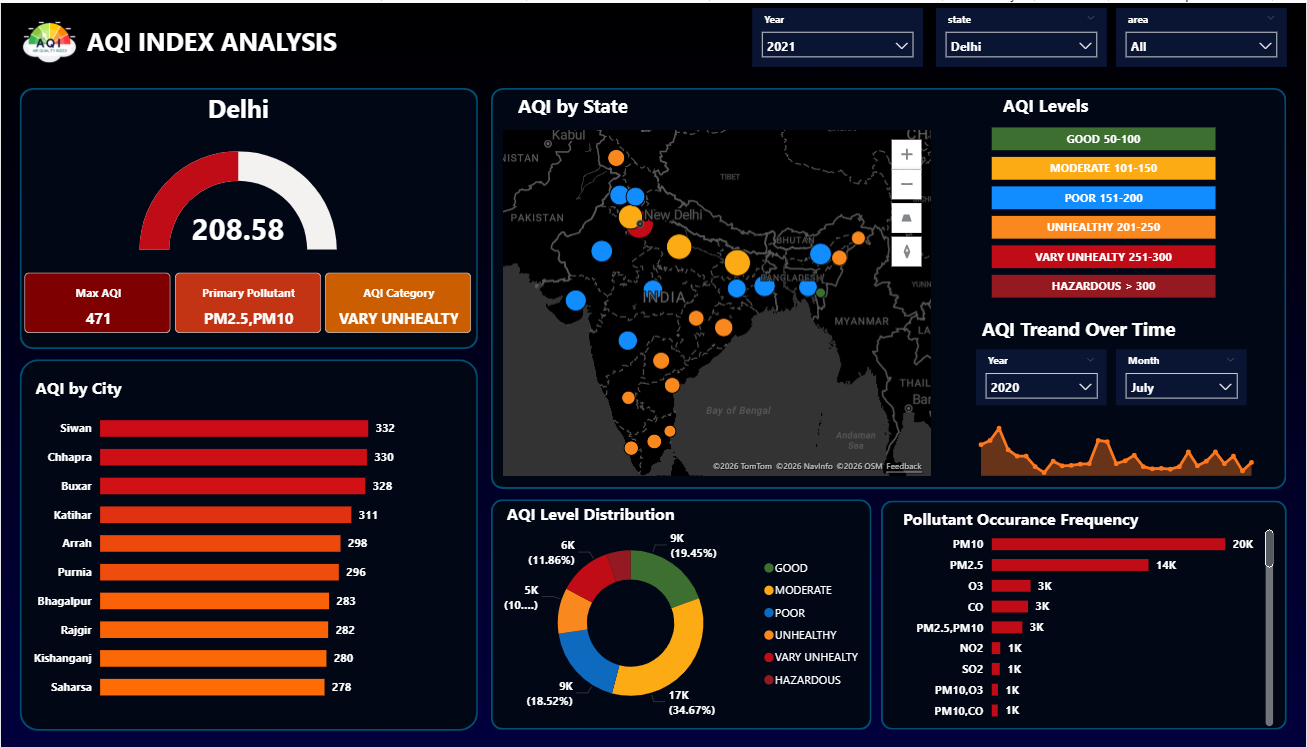

Layout of this report page (visuals, bound fields, positions):
{"tool":"powerbi","page":{"name":"INDEX AQI ANALYSIS","canvas":[1400,800],"ordinal":0},"visuals":[{"type":"textbox","box":[87.1,17.1,288.6,62.9],"z":0},{"type":"image","box":[0,14.3,104.3,54.3],"z":1000},{"type":"shape","box":[20,91.4,491.4,280],"z":2000},{"type":"gauge","fields":{"Y":["day_wise_aqi_data.Avg AQI"]},"box":[104.3,154.3,300,115.7],"z":3000},{"type":"slicer","fields":{"Values":["calender table.Year"]},"box":[806,6,183.1,63],"z":4000},{"type":"slicer","fields":{"Values":["day_wise_aqi_data.state"]},"box":[1002.6,6,183.1,63],"z":5000},{"type":"slicer","fields":{"Values":["day_wise_aqi_data.area"]},"box":[1196.2,6,183.1,63],"z":6000},{"type":"cardVisual","fields":{"Data":["Max(day_wise_aqi_data.aqi_value)","day_wise_aqi_data.Primary Pollutant","day_wise_aqi_data.AQI Category KPI"]},"box":[20.1,284.2,490.6,75.1],"z":7000},{"type":"cardVisual","fields":{"Data":["day_wise_aqi_data.KPI"]},"box":[29.7,70.3,450,73],"z":8000},{"type":"shape","box":[525.7,91.4,852.9,430],"z":9000},{"type":"azureMap","fields":{"Category":["day_wise_aqi_data.state"],"Size":["day_wise_aqi_data.Avg AQI"]},"box":[533.8,131.2,468.8,381.2],"z":10000},{"type":"cardVisual","fields":{"Data":["day_wise_aqi_data.State Map Title"]},"box":[537.8,68.9,450,74.3],"z":11000},{"type":"barChart","fields":{"Category":["day_wise_aqi_data.AQI Category"],"Y":["day_wise_aqi_data.Label"]},"box":[1058.1,120.3,250,201.3],"z":12000},{"type":"cardVisual","fields":{"Data":["day_wise_aqi_data.AQI Level Title"]},"box":[1058.1,68.9,274.3,74.3],"z":13000},{"type":"areaChart","fields":{"Category":["calender table.Date.Variation.Date Hierarchy.Day"],"Y":["day_wise_aqi_data.Avg AQI"]},"box":[1035.7,422.9,320,90],"z":14000},{"type":"slicer","fields":{"Values":["calender table.Date.Variation.Date Hierarchy.Year"]},"box":[1045.7,371.4,140,60],"z":15000},{"type":"slicer","fields":{"Values":["calender table.Date.Variation.Date Hierarchy.Month"]},"box":[1195.7,371.4,140,60],"z":16000},{"type":"cardVisual","fields":{"Data":["day_wise_aqi_data.Title for Monthly Chart"]},"box":[1035.1,306.8,347.3,74.3],"z":17000},{"type":"shape","box":[20,381.4,491.4,398.6],"z":18000},{"type":"barChart","fields":{"Category":["day_wise_aqi_data.area"],"Y":["day_wise_aqi_data.Avg AQI"]},"box":[30,422.9,470,338.6],"z":19000},{"type":"cardVisual","fields":{"Data":["day_wise_aqi_data.Title for city"]},"box":[20,371.4,450,74.3],"z":20000},{"type":"shape","box":[525.7,532.4,408.1,247.3],"z":21000},{"type":"donutChart","fields":{"Category":["day_wise_aqi_data.AQI Category"],"Y":["day_wise_aqi_data.Count of Rows"]},"box":[528.4,551.4,405.4,228.4],"z":22000},{"type":"cardVisual","fields":{"Data":["day_wise_aqi_data.Donut Title"]},"box":[525.7,506.8,450,74.3],"z":22001},{"type":"shape","box":[943.2,533.8,435.1,245.9],"z":22002},{"type":"barChart","fields":{"Y":["day_wise_aqi_data.Count of Rows"],"Category":["day_wise_aqi_data.prominent_pollutants"]},"box":[943.2,552.7,425.7,228.4],"z":22003},{"type":"cardVisual","fields":{"Data":["day_wise_aqi_data.Pollutant Title"]},"box":[950,512.2,450,74.3],"z":22004}]}

Visuals, with their boxes in screenshot pixels (x1, y1, x2, y2), scaled from the page's 1400x800 canvas onto the 1307x747 screenshot:
textbox: <region>81, 16, 351, 75</region>
image: <region>0, 13, 97, 64</region>
shape: <region>19, 85, 477, 347</region>
gauge - day_wise_aqi_data.Avg AQI: <region>97, 144, 377, 252</region>
slicer - calender table.Year: <region>752, 6, 923, 64</region>
slicer - day_wise_aqi_data.state: <region>936, 6, 1107, 64</region>
slicer - day_wise_aqi_data.area: <region>1117, 6, 1288, 64</region>
cardVisual - Max(day_wise_aqi_data.aqi_value) x day_wise_aqi_data.Primary Pollutant: <region>19, 265, 477, 335</region>
cardVisual - day_wise_aqi_data.KPI: <region>28, 66, 448, 134</region>
shape: <region>491, 85, 1287, 487</region>
azureMap - day_wise_aqi_data.state x day_wise_aqi_data.Avg AQI: <region>498, 123, 936, 478</region>
cardVisual - day_wise_aqi_data.State Map Title: <region>502, 64, 922, 134</region>
barChart - day_wise_aqi_data.AQI Category x day_wise_aqi_data.Label: <region>988, 112, 1221, 300</region>
cardVisual - day_wise_aqi_data.AQI Level Title: <region>988, 64, 1244, 134</region>
areaChart - calender table.Date.Variation.Date Hierarchy.Day x day_wise_aqi_data.Avg AQI: <region>967, 395, 1266, 479</region>
slicer - calender table.Date.Variation.Date Hierarchy.Year: <region>976, 347, 1107, 403</region>
slicer - calender table.Date.Variation.Date Hierarchy.Month: <region>1116, 347, 1247, 403</region>
cardVisual - day_wise_aqi_data.Title for Monthly Chart: <region>966, 286, 1291, 356</region>
shape: <region>19, 356, 477, 728</region>
barChart - day_wise_aqi_data.area x day_wise_aqi_data.Avg AQI: <region>28, 395, 467, 711</region>
cardVisual - day_wise_aqi_data.Title for city: <region>19, 347, 439, 416</region>
shape: <region>491, 497, 872, 728</region>
donutChart - day_wise_aqi_data.AQI Category x day_wise_aqi_data.Count of Rows: <region>493, 515, 872, 728</region>
cardVisual - day_wise_aqi_data.Donut Title: <region>491, 473, 911, 543</region>
shape: <region>881, 498, 1287, 728</region>
barChart - day_wise_aqi_data.Count of Rows x day_wise_aqi_data.prominent_pollutants: <region>881, 516, 1278, 729</region>
cardVisual - day_wise_aqi_data.Pollutant Title: <region>887, 478, 1306, 548</region>
